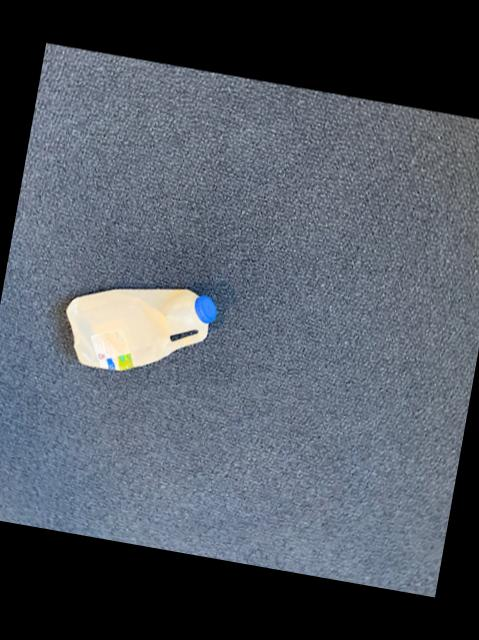plastic: (63, 289, 214, 371)
